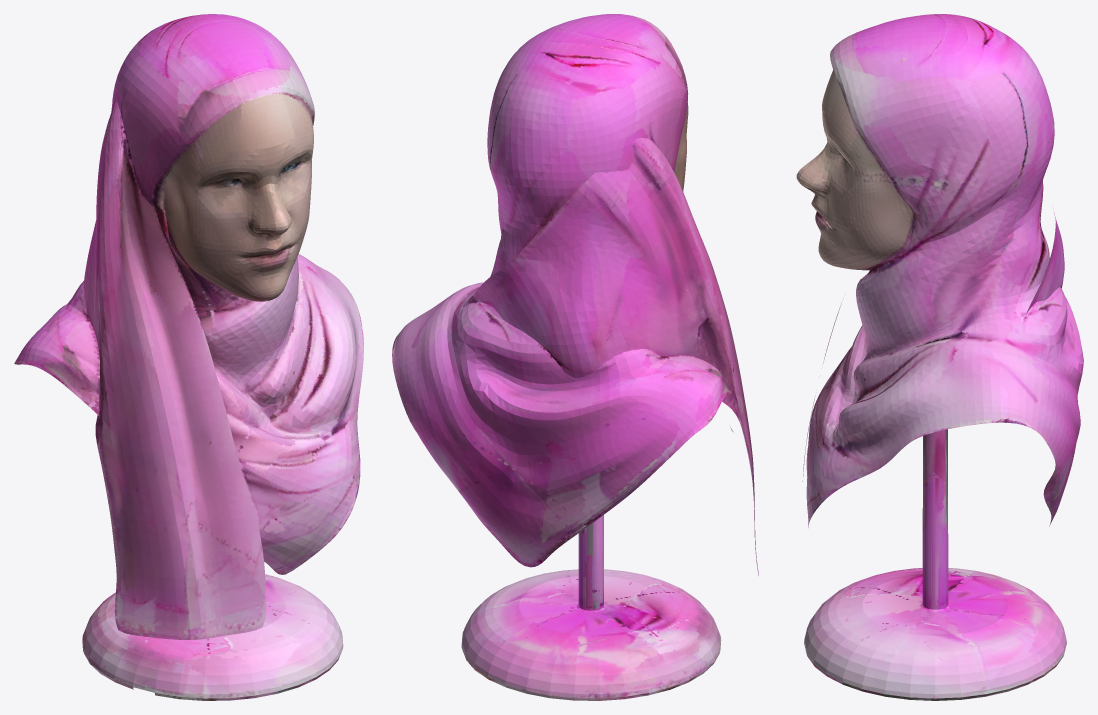
File: textured_text2tex.glb
3 views of the same model, side by side, from view 1: azimuth 30°, elevation 25°; view 2: azimuth 150°, elevation 25°; view 3: azimuth 270°, elevation 25° (orthographic).
Visible parts, largest first — view 1: Node; view 2: Node; view 3: Node.
Boxes of the visible parts, x1,y1,x2,y2 form: Node: (14,14,363,700); Node: (392,14,758,700); Node: (796,14,1083,700).
Size of the model in its own units: 0.5371 by 1 by 0.4319.
1 material, 1 textured.
